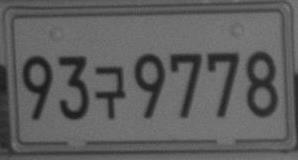3: (58, 55, 89, 119)
7: (170, 53, 203, 118), (207, 51, 238, 117)
8: (245, 50, 279, 118)
9: (133, 52, 166, 119), (21, 55, 54, 120)
구: (94, 65, 126, 119)
